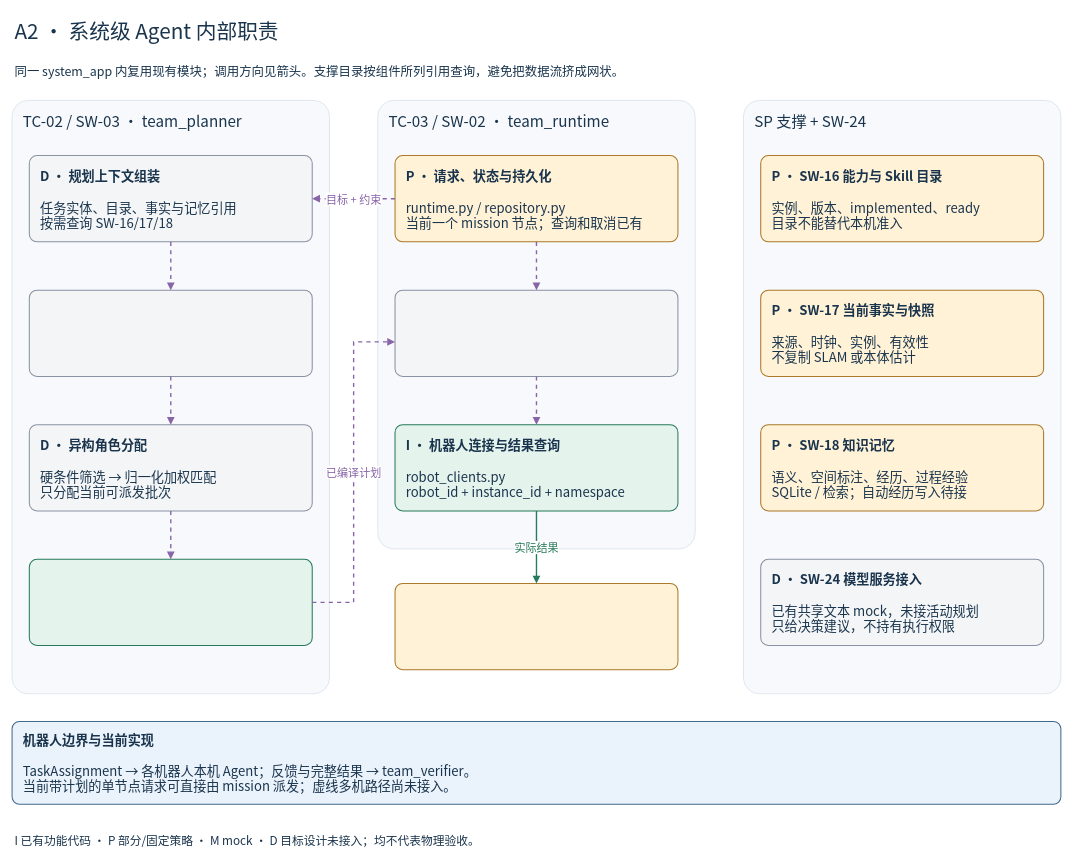
The diagram is 1074 pixels wide and 865 high, and some of its shapes have lost their labels. Each missing label, with the centre of its shape:
D · 计划提案 / 目标解析 Skill + 经验 + 目标 → PlanDraft 结构化提案，不生成控制指令: point 170,333
D · 跨机依赖与修订调度 只派发就绪节点；保留未完成责任 重连查询与任务级资源预留: point 536,333
I · 确定性编译 plan_compiler.py 模板、schema、依赖、版本与结果绑定: point 170,602
P · TC-04 / SW-04 核验 完整能力结果 + GoalPredicate 满足 / 不满足 / 未知；不以终态代替目标: point 536,626
